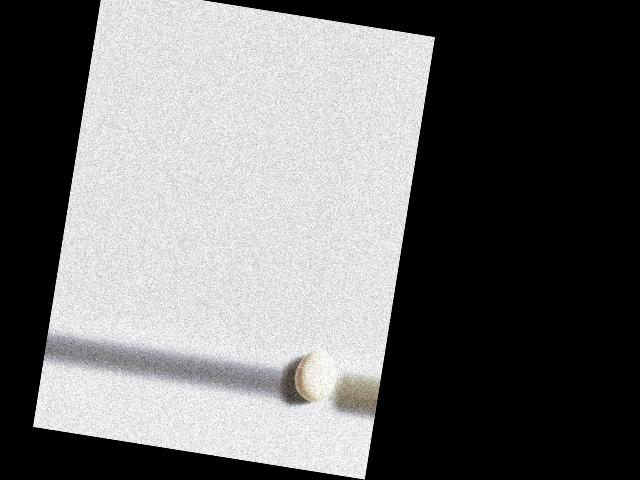egg: (291, 347, 339, 405)
